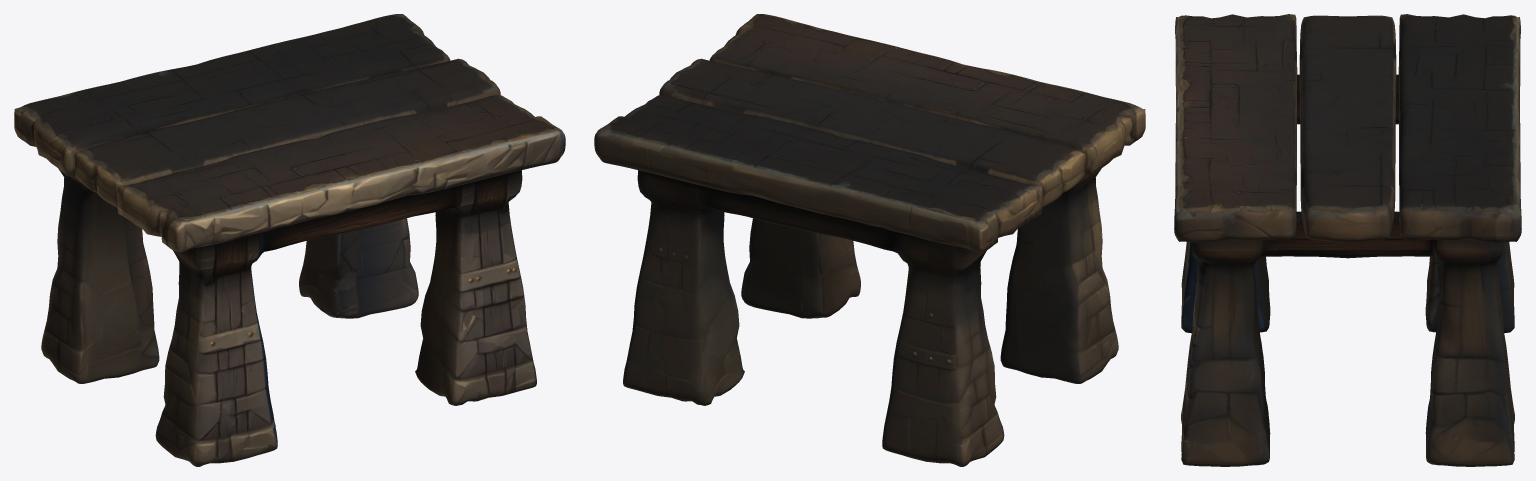
File: dungeonTable.fbx
The picture shows the model from 3 angles, left to right: view 1: azimuth 30°, elevation 25°; view 2: azimuth 150°, elevation 25°; view 3: azimuth 270°, elevation 25°; orthographic projection. The views are drawn at different scales.
Parts seen in each view (by area): view 1: Mesh_0; view 2: Mesh_0; view 3: Mesh_0.
Part boxes in pixels (x1,y1,x2,y2): Mesh_0: (14,14,565,466); Mesh_0: (594,14,1145,466); Mesh_0: (1174,14,1521,466).
Size of the model in its own units: 199 by 124 by 144.
